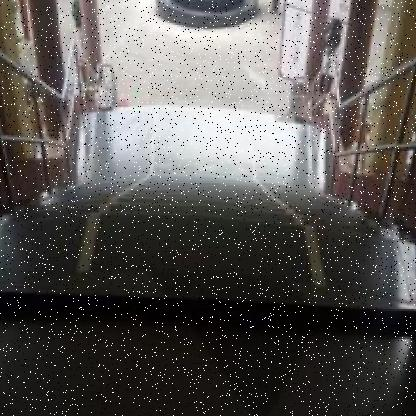stair_down: (93, 168, 312, 259)
